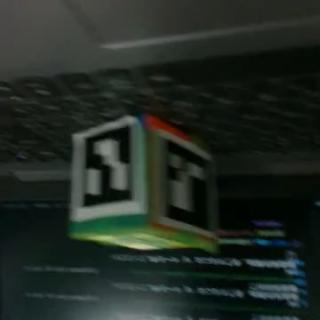armor: (73, 116, 143, 225), (156, 128, 212, 234)
robot: (70, 112, 212, 248)
